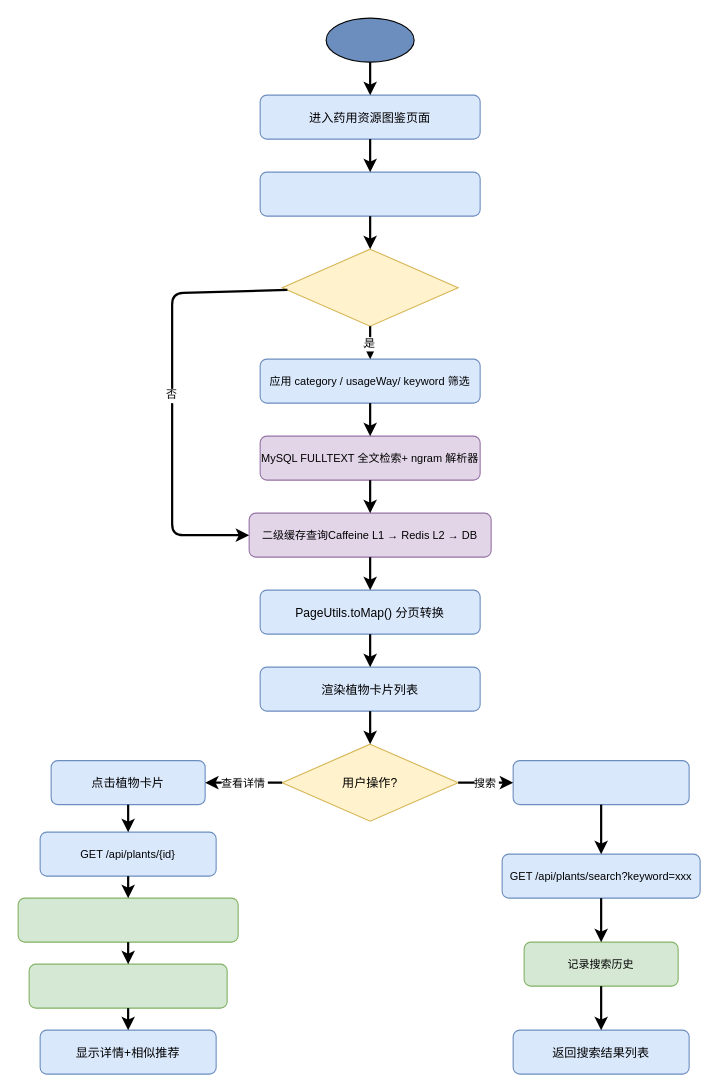
Image size: 718x1092. Some labels were removed from this diagram. The centre of each missing label's shape, as x and y in pixels:
"GET /api/plants/list?page=1&size=12" belongs at (369,193).
"开始" belongs at (369,39).
"异步更新 viewCount + popularity" belongs at (127,919).
"有筛选条件?" belongs at (369,287).
"记录浏览历史(已登录)" belongs at (127,985).
"输入搜索关键词" belongs at (600,782).
